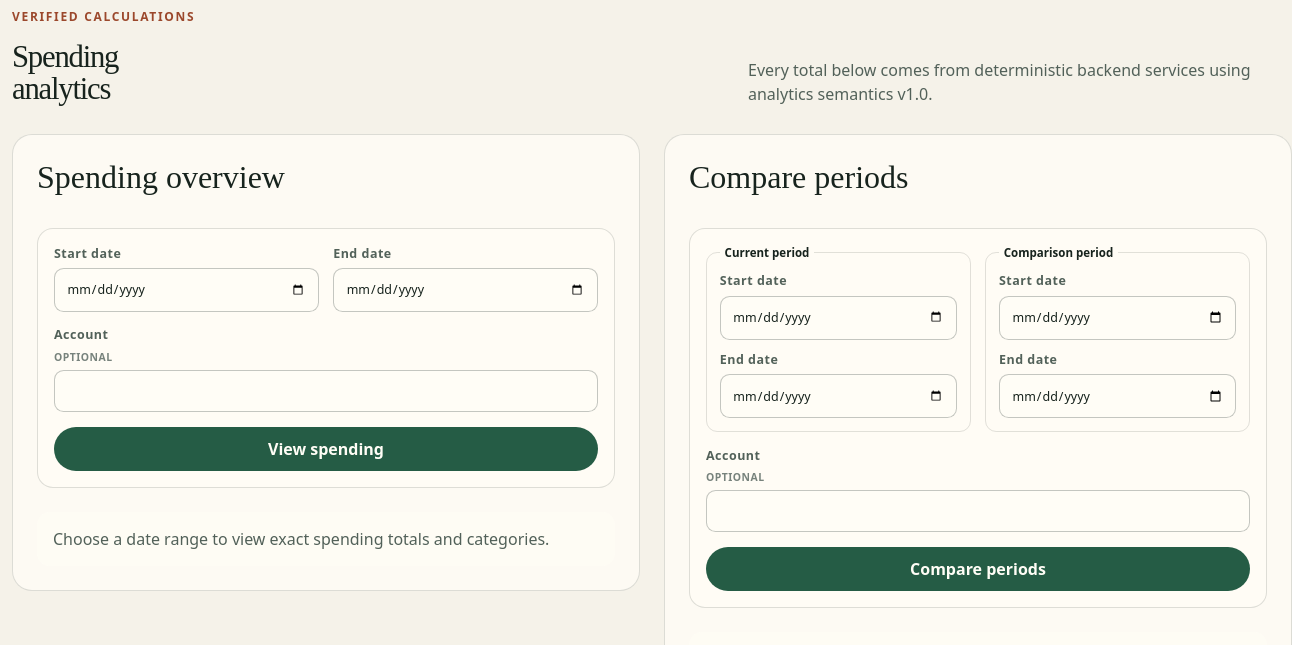
Test case: AnalyticsDashboard › renders period comparison values and an API error state
The image size is (1292, 645).
In the date field labelled "Start date" below "Current period": (838, 318) [720,296,957,340], type "2026-06-01"
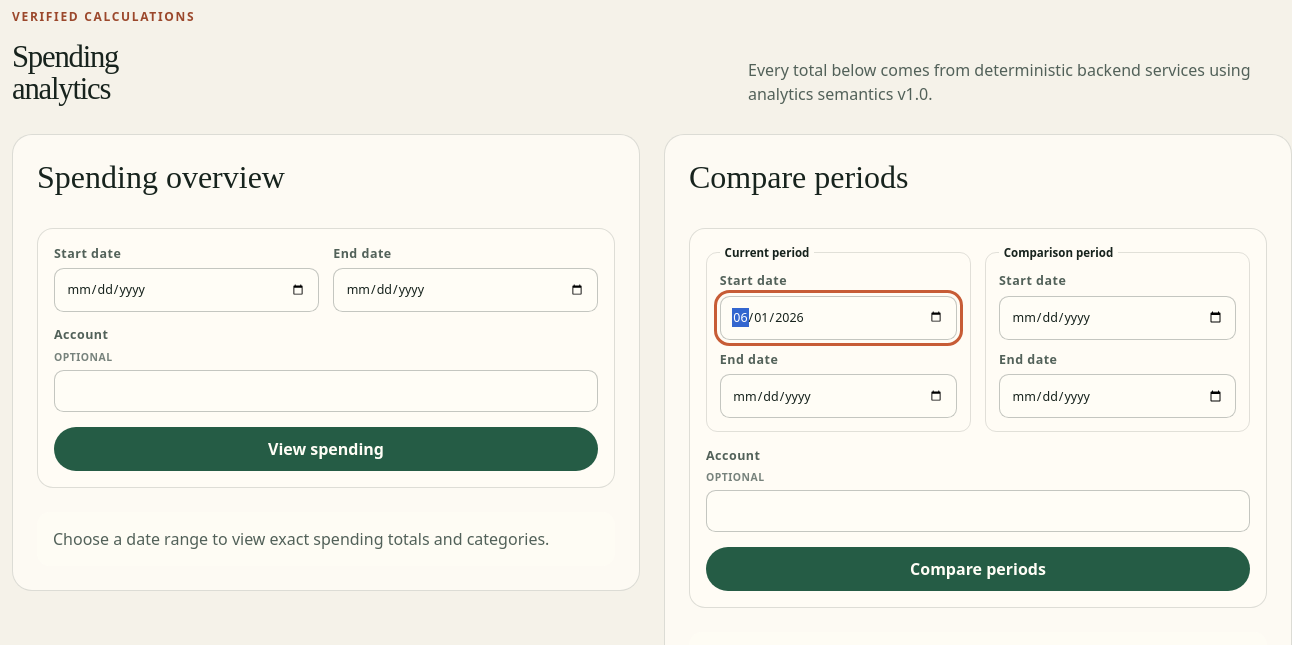
In the date field labelled "End date" below "Current period": (838, 396) [720,374,957,418], type "2026-06-30"
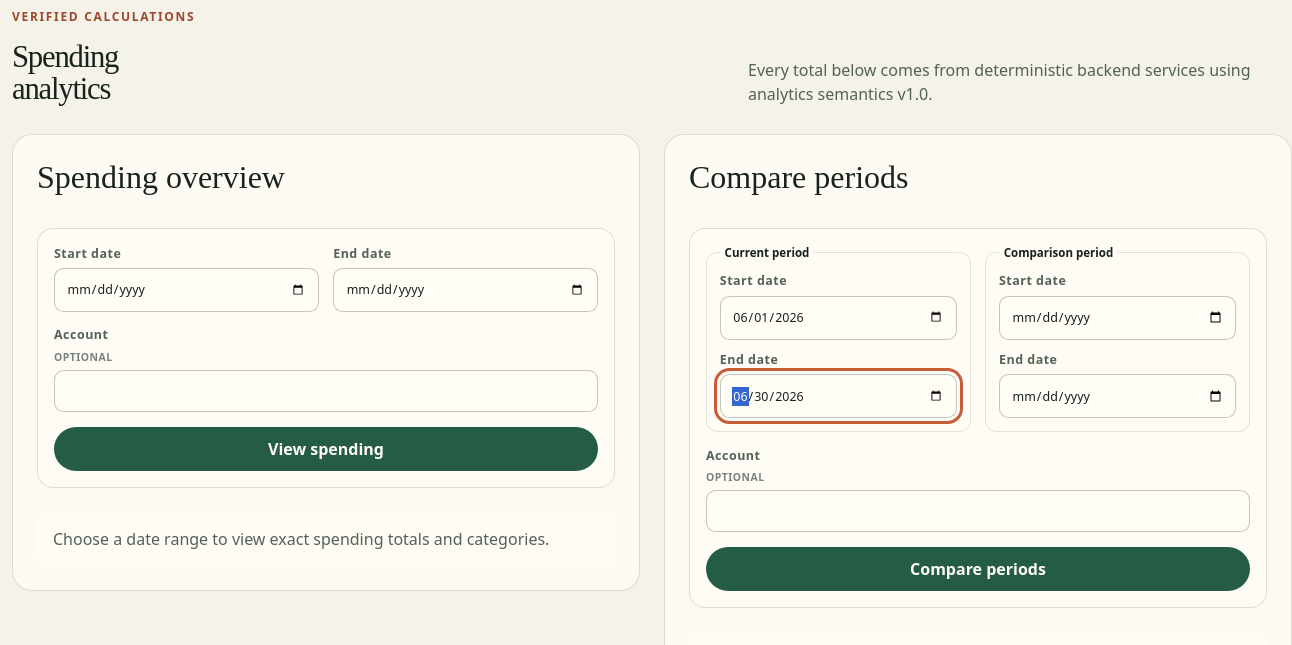
In the date field labelled "Start date" below "Comparison period": (1118, 318) [999,296,1236,340], type "2026-05-01"
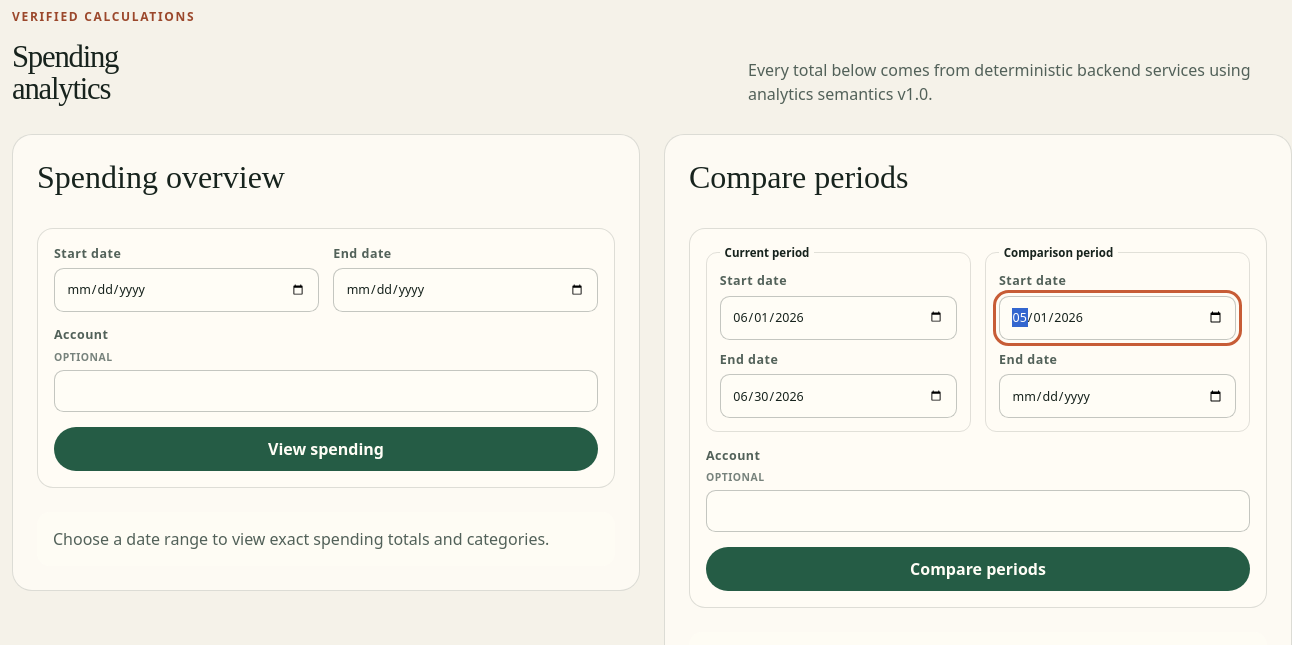
In the date field labelled "End date" below "Comparison period": (1118, 396) [999,374,1236,418], type "2026-05-31"
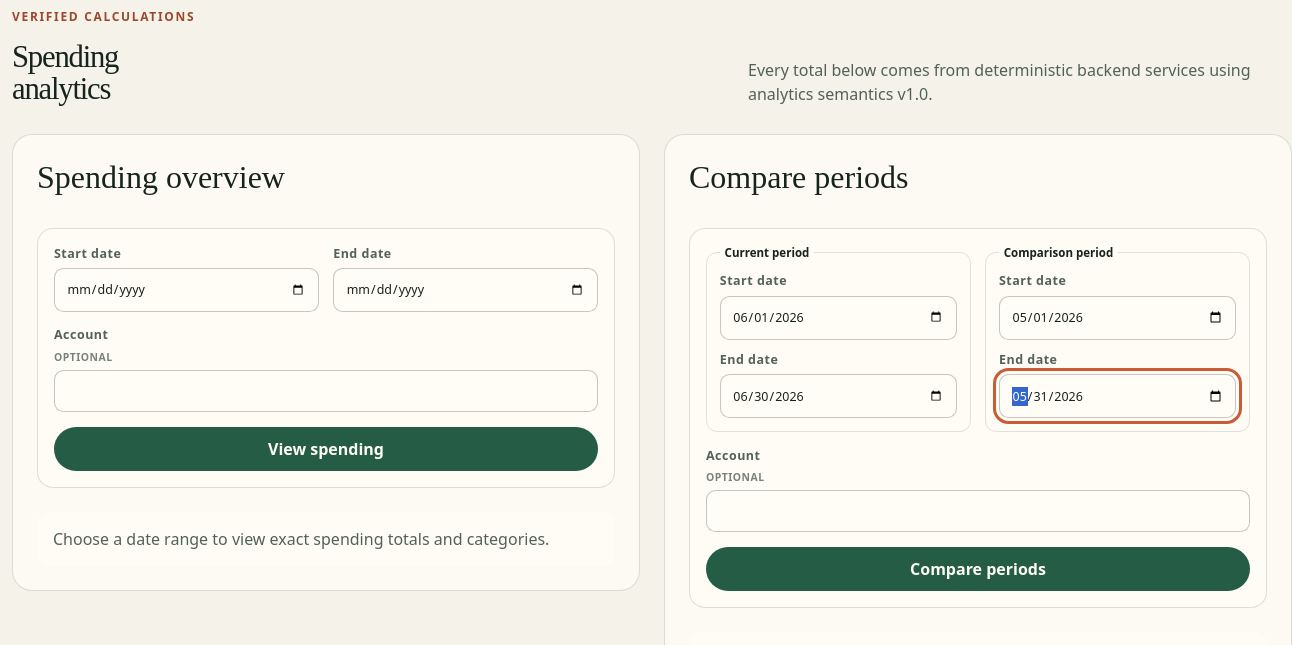
Click the button "Compare periods": (978, 569) [706,547,1250,591]
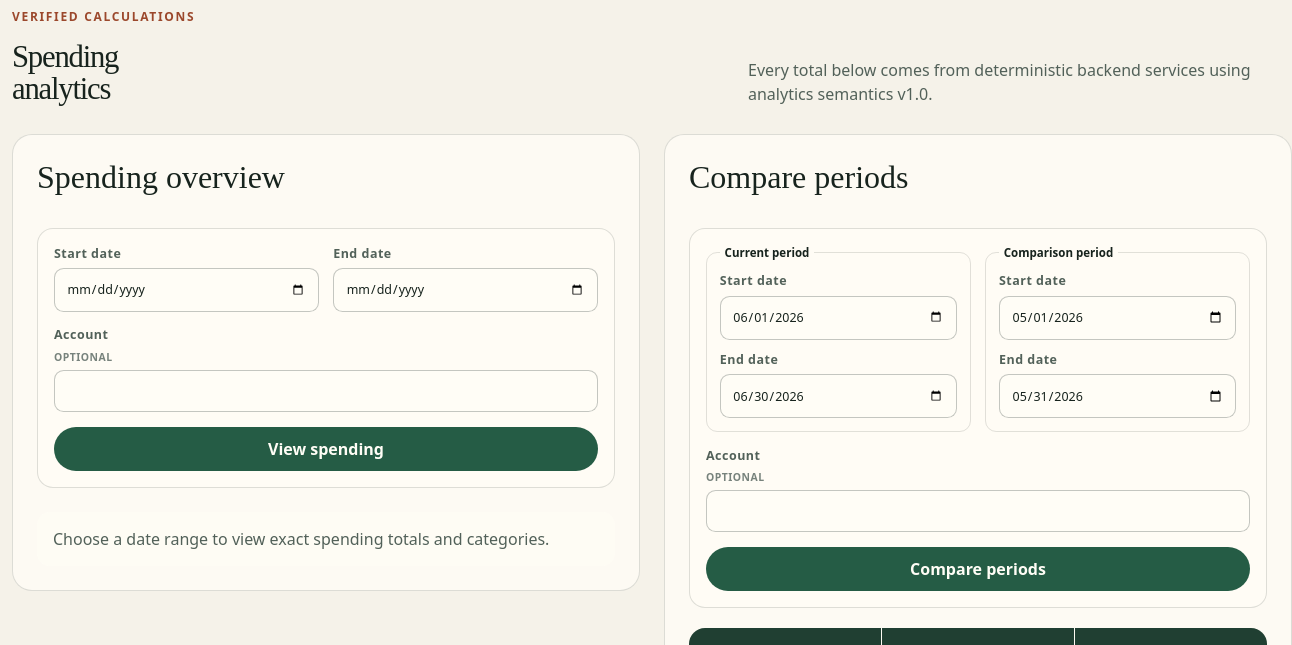
Click the button "Compare periods": (978, 569) [706,547,1250,591]
(page scrolled)
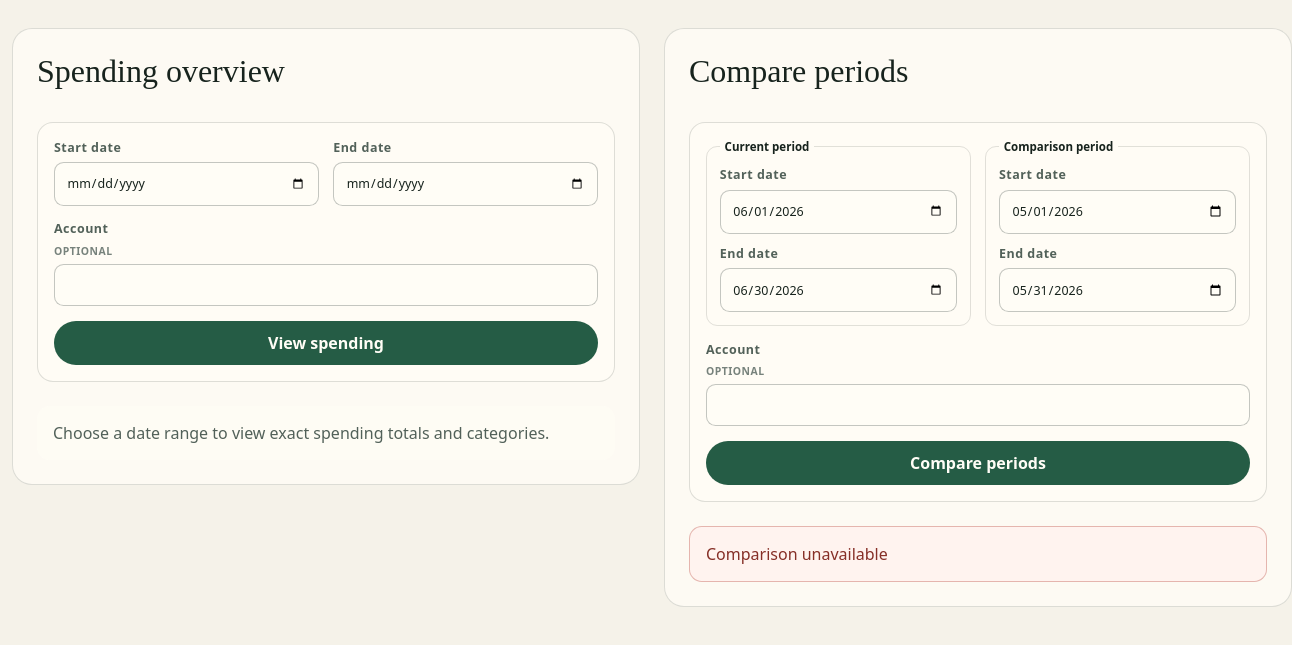
Check: the message reads "Comparison unavailable", box [706,543,888,565]
